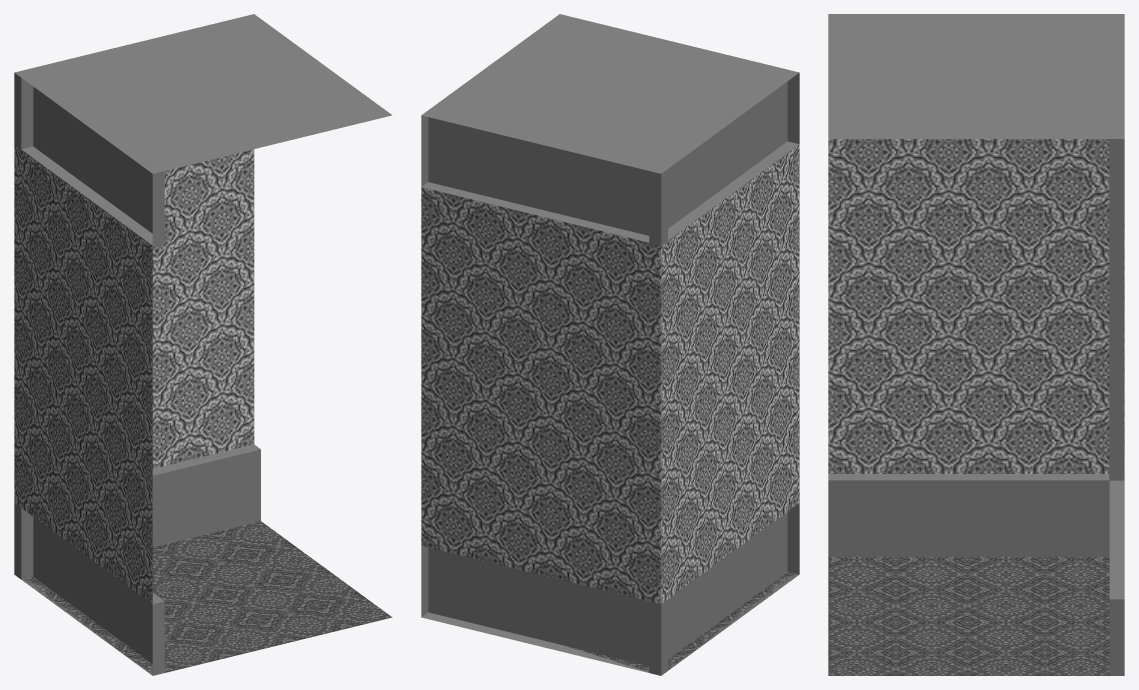
The model's file is Room_Corner_Half.fbx.
The picture shows the model from 3 angles, left to right: view 1: azimuth 30°, elevation 25°; view 2: azimuth 150°, elevation 25°; view 3: azimuth 270°, elevation 25°; orthographic projection. The views are drawn at different scales.
Visible parts, largest first — view 1: Room_Corner_Half; view 2: Room_Corner_Half; view 3: Room_Corner_Half.
Boxes of the visible parts, box(x1,y1,x2,y2) form: Room_Corner_Half: box(14, 14, 392, 675); Room_Corner_Half: box(421, 14, 799, 675); Room_Corner_Half: box(828, 14, 1124, 675).
Size of the model in its own units: 3 by 6 by 3.
Materials: 3 (2 with a texture image).
